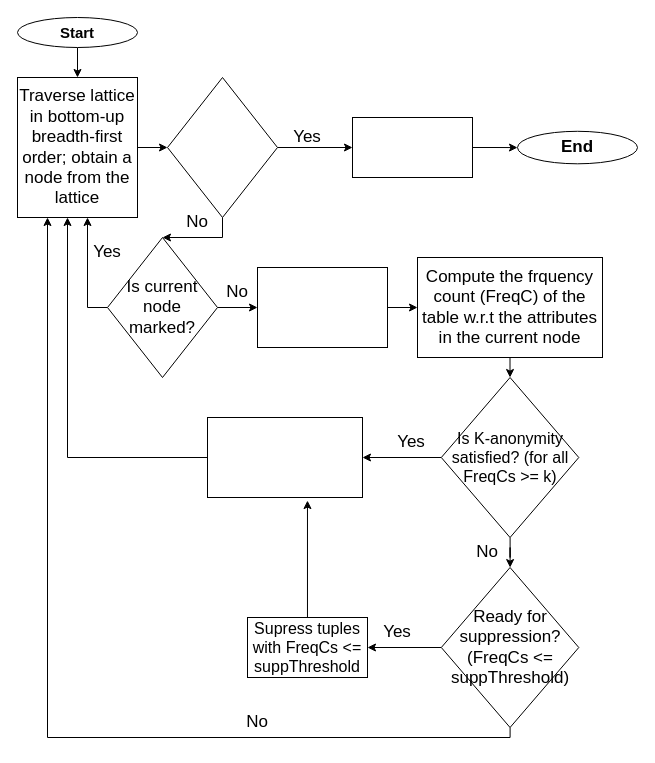
This 655x763 diagram has some shape labels left out. Each missing label, with the box of its shape:
Generalize according to the present node: (256, 266, 388, 348)
Is entire lattice traversed?: (166, 76, 278, 218)
Return anonymized table: (352, 116, 472, 178)
Save anonymous node in the list and mark all its generalization: (206, 416, 362, 498)
